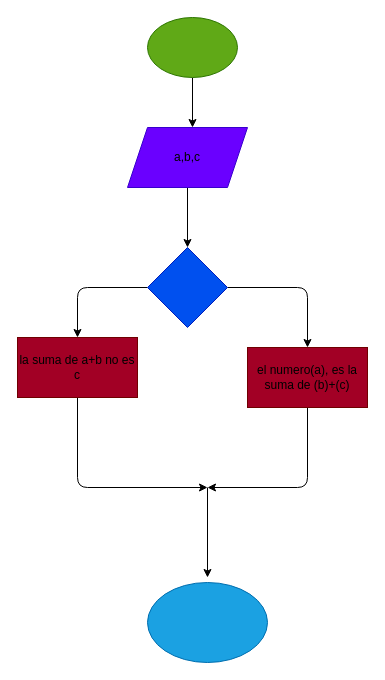
Image size: 385x680. Some labels were removed from this diagram. Here are the shapes that lost their labels. From the top down, the box of each, then its label:
(146, 16, 238, 78): INICIO
(146, 246, 228, 328): c==a+b
